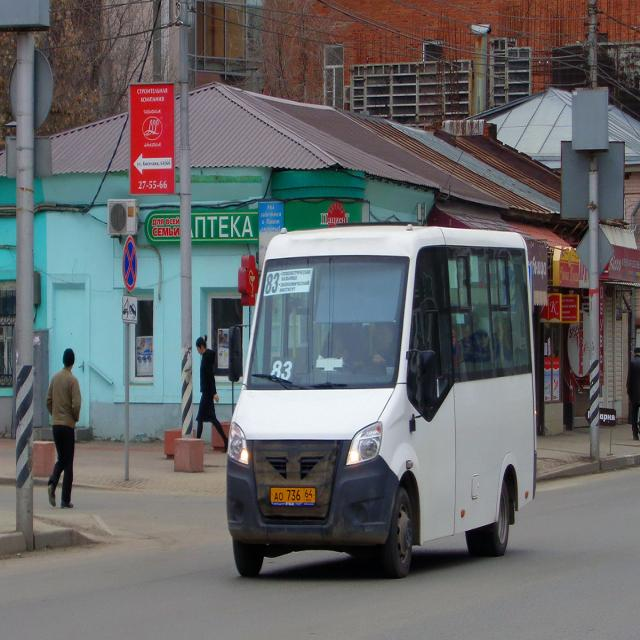number-of-bus: (271, 358, 293, 386), (266, 273, 281, 295)
